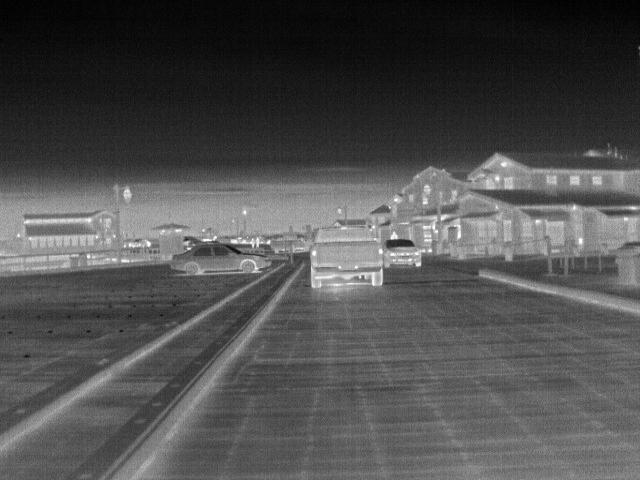car: (308, 223, 386, 289), (167, 243, 276, 277), (381, 239, 426, 268)
person: (388, 230, 401, 241)
